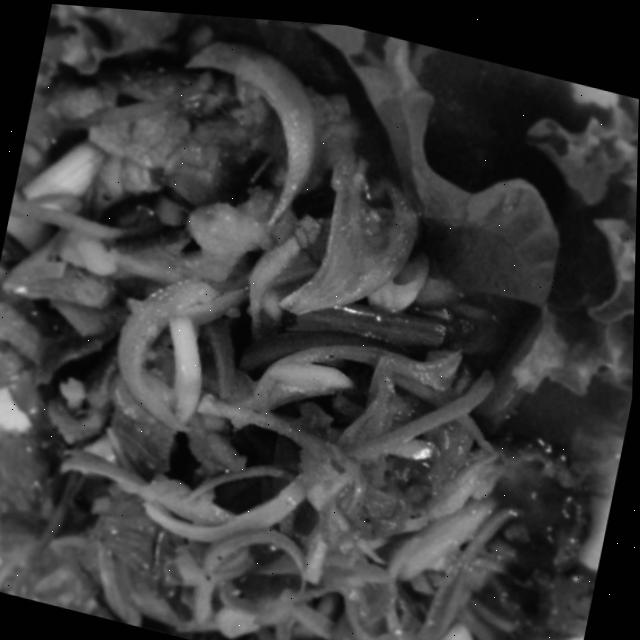猪肉菜式: (0, 4, 640, 640)
